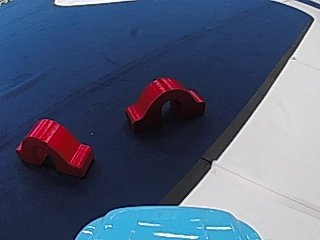bridge: (14, 116, 99, 181), (119, 73, 208, 130)
